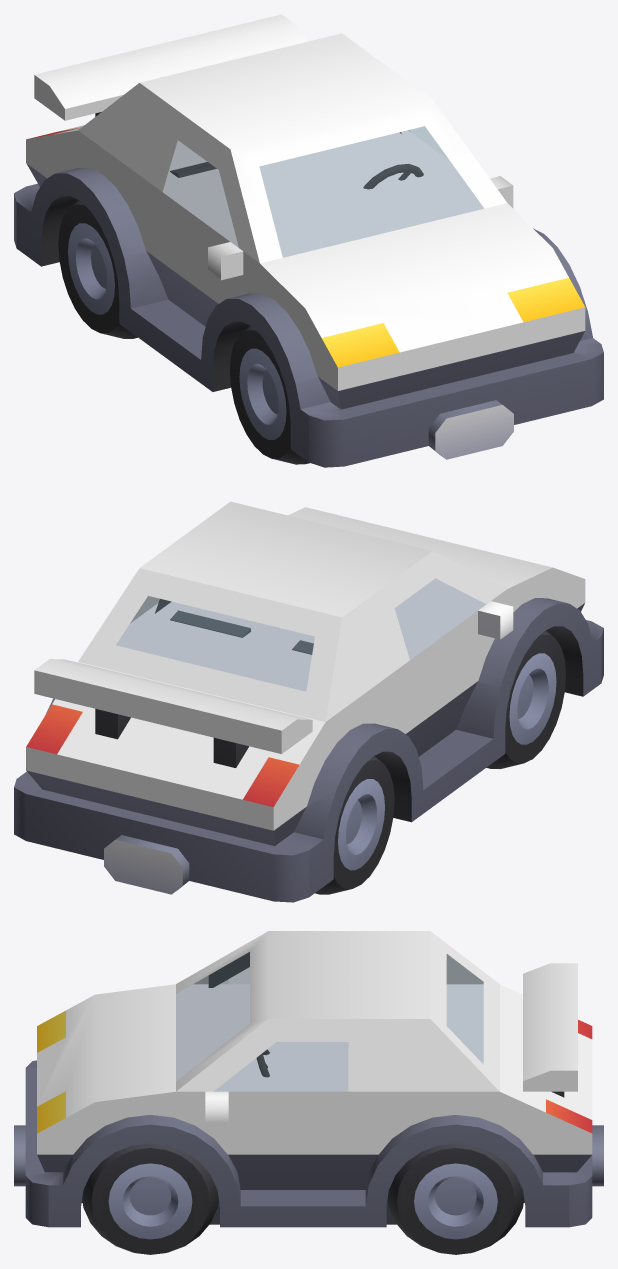
The model's file is sedan_exec.glb.
3 renders of one model, top to bottom at view 1: azimuth 30°, elevation 25°; view 2: azimuth 150°, elevation 25°; view 3: azimuth 270°, elevation 25°, orthographic. The views are drawn at different scales.
Visible parts, largest first — view 1: paint, body, glass, door-front-right-paint, wheel-back-right, wheel-front-right, door-front-right-glass, door-front-right-panel, steering-wheel; view 2: paint, body, glass, door-front-right-paint, wheel-back-right, wheel-front-right, door-front-right-glass, door-front-right-panel, interior; view 3: paint, body, door-front-left-paint, wheel-front-left, wheel-back-left, glass, door-front-left-panel, door-front-left-glass, door-front-right-trim.
Part boxes in pixels (x1,y1,x2,y2): paint: (26,14,585,390); body: (14,112,603,467); glass: (259,126,483,257); door-front-right-paint: (146,128,249,303); wheel-back-right: (58,200,137,338); wheel-front-right: (230,326,309,464); door-front-right-glass: (163,140,238,247); door-front-right-panel: (123,251,218,362); steering-wheel: (363,164,423,189); paint: (26,501,585,830); body: (14,578,603,902); glass: (116,596,314,691); door-front-right-paint: (378,563,511,733); wheel-back-right: (315,756,394,894); wheel-front-right: (486,630,565,768); door-front-right-glass: (395,578,485,659); door-front-right-panel: (406,681,500,792); interior: (170,610,313,654); paint: (37,931,592,1154); body: (14,984,603,1227); door-front-left-paint: (208,1042,378,1154); wheel-front-left: (82,1143,218,1254); wheel-back-left: (387,1143,524,1254); glass: (176,952,483,1080); door-front-left-panel: (227,1154,378,1203); door-front-left-glass: (214,1042,348,1091); door-front-right-trim: (208,952,249,987).
Bounding box in the file's own units: 2.01 × 1.7 × 3.95.
4 materials, 1 textured.
